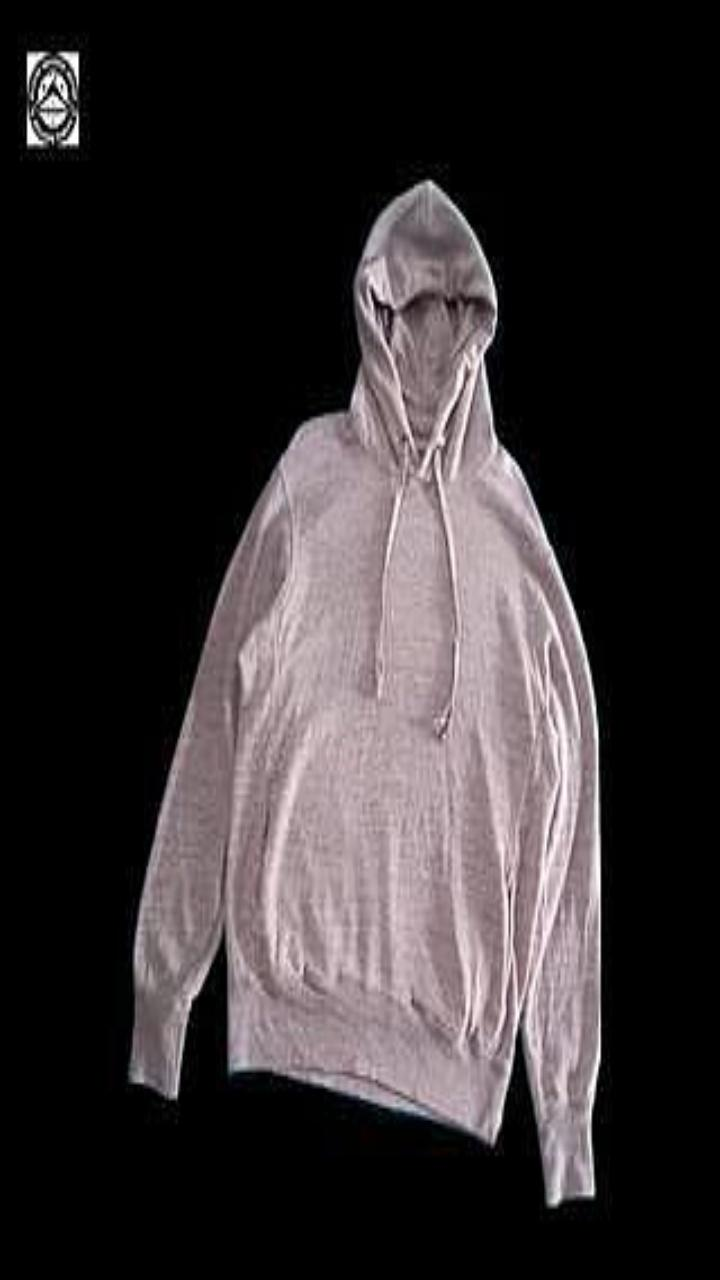Hoodie: (130, 181, 599, 1203)
